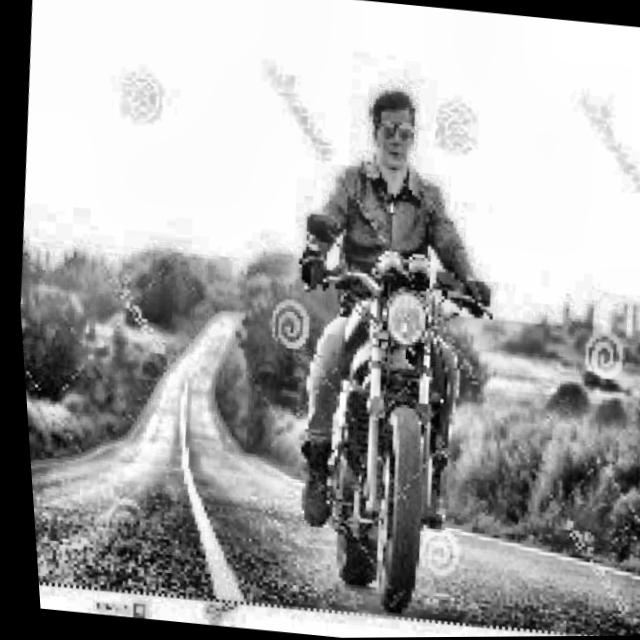motorcycle: (243, 194, 523, 630)
